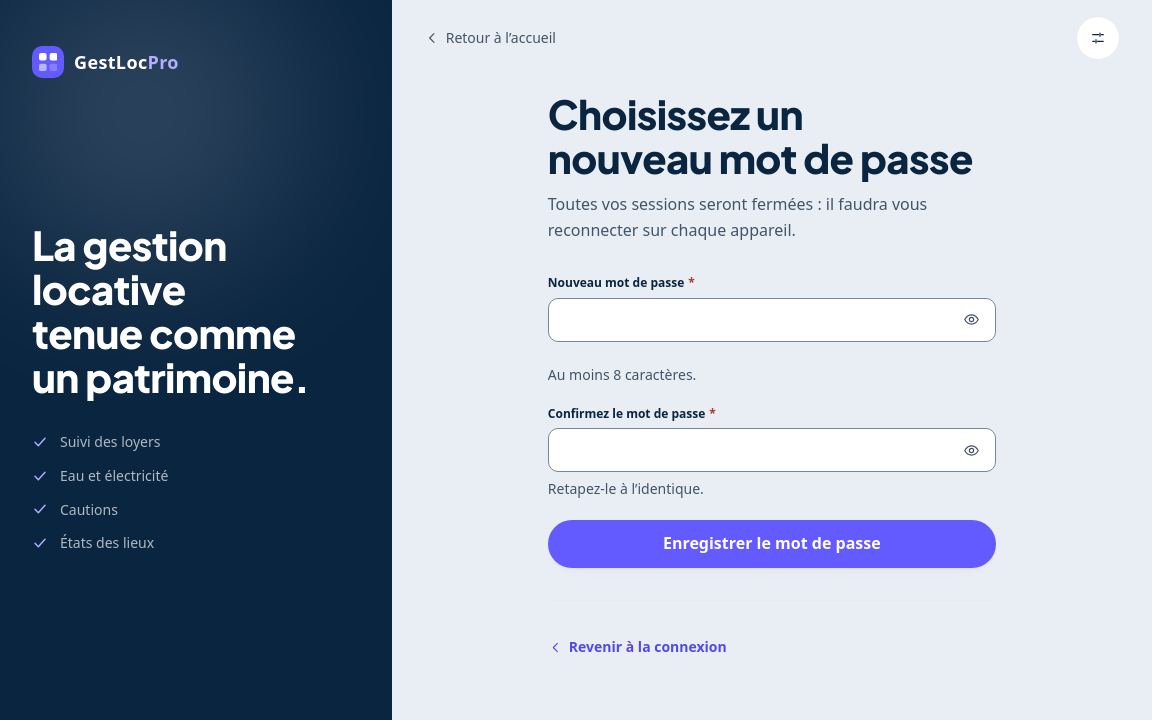
formulaire de réinitialisation › confirme et renvoie vers la connexion
Type "Bonamoussadi2026!" into the password field labelled "Nouveau mot de passe*" at (772, 320), box 548,298 -> 996,342
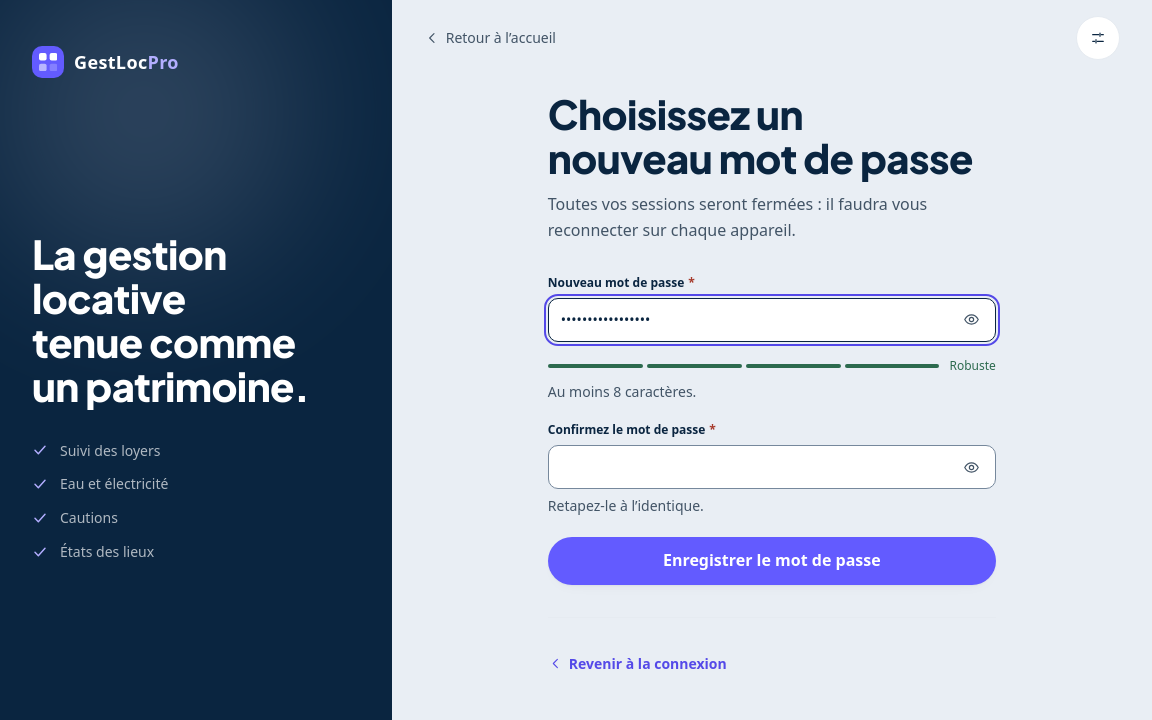
Type "Bonamoussadi2026!" into the password field labelled "Confirmez le mot de passe*" at (772, 467), box 548,445 -> 996,489
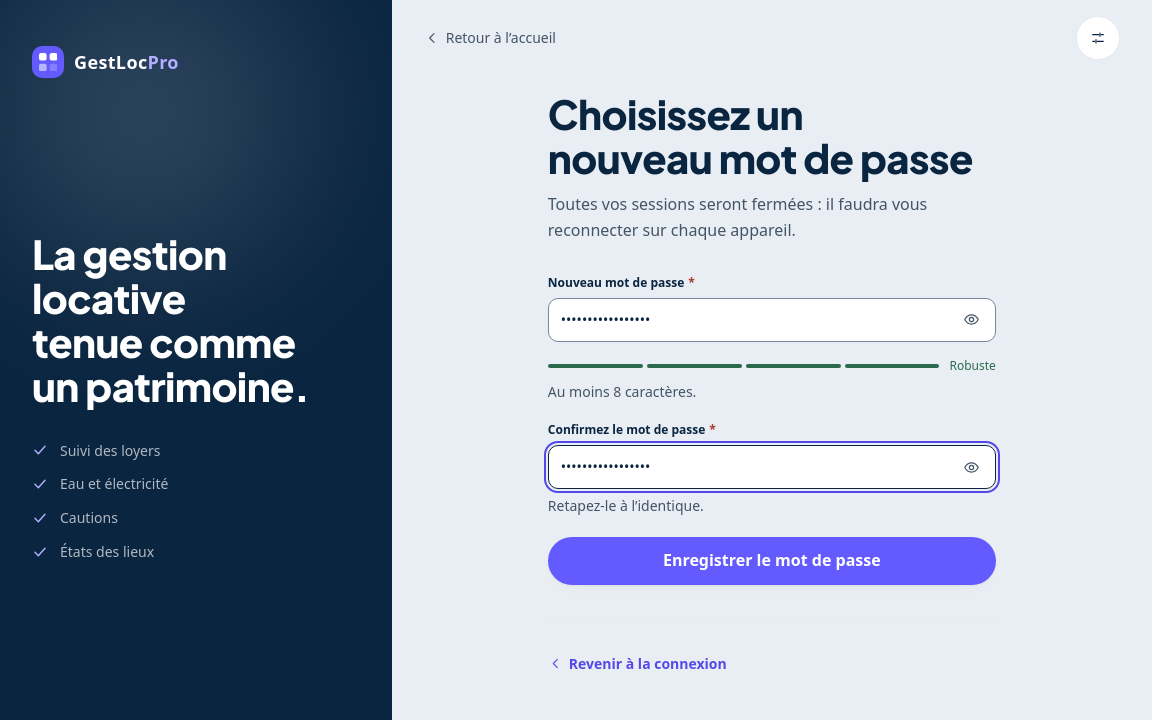
Click the button "Enregistrer le mot de passe" at (772, 561), box 548,537 -> 996,585
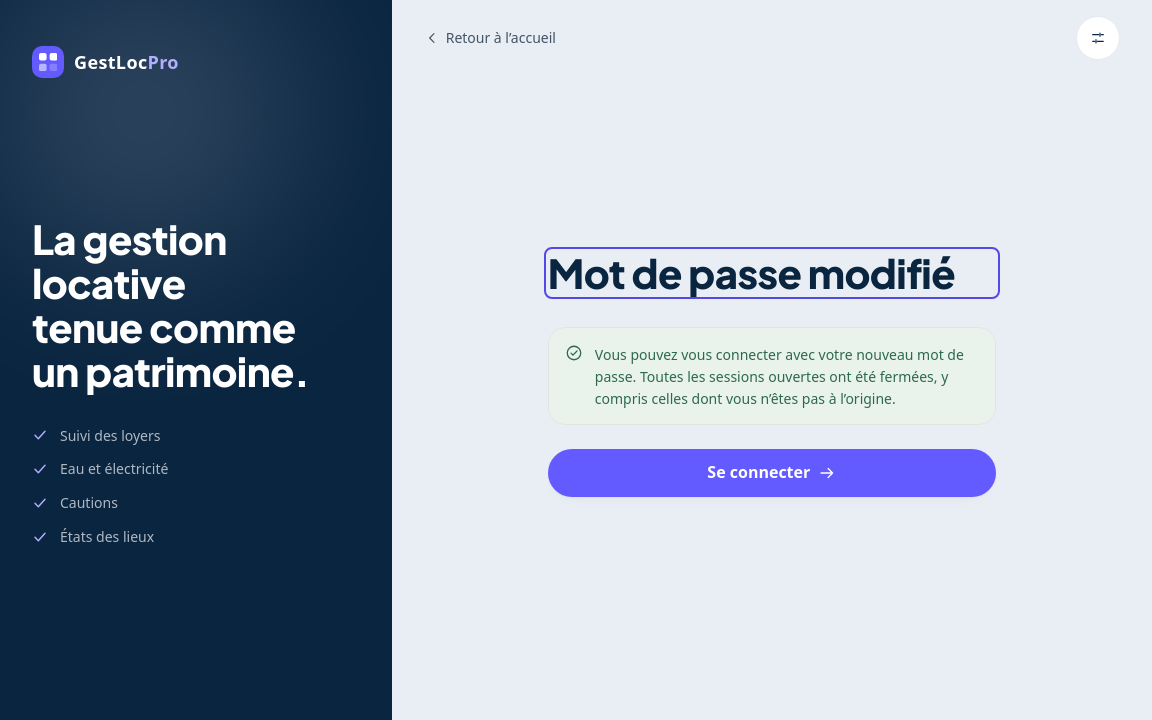
Check: the heading "Mot de passe modifié" is shown, box 548,252 -> 996,296
